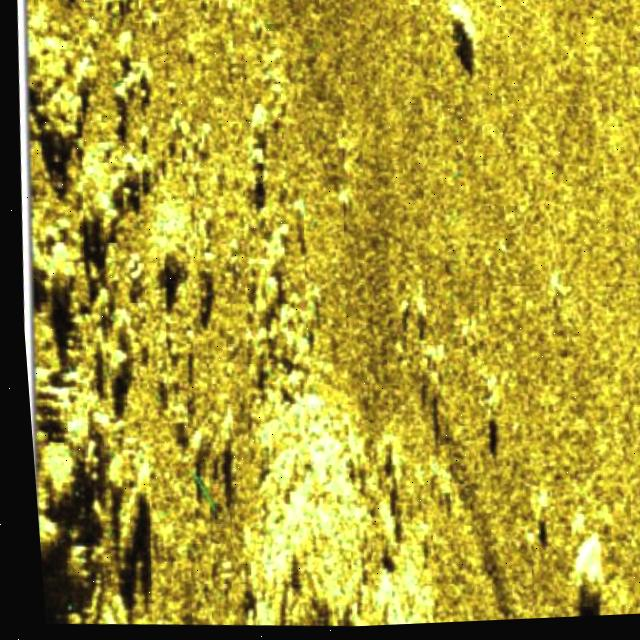bedrock group: (0, 0, 434, 640)
